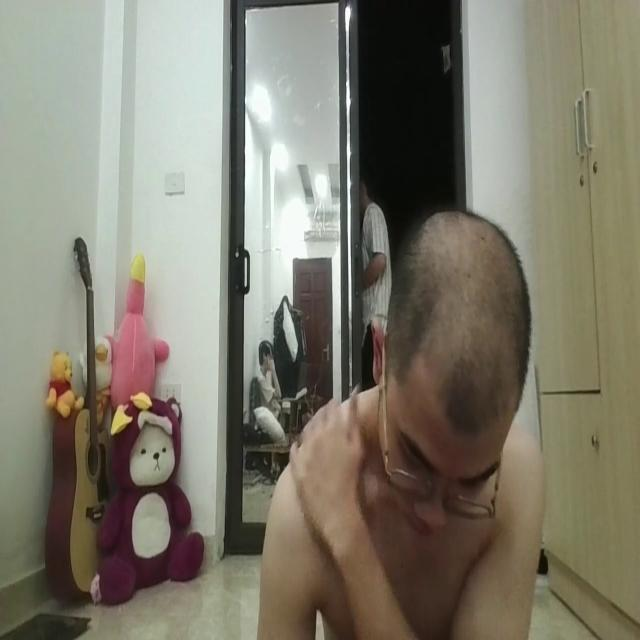extra_person: (353, 149, 400, 365), (238, 336, 302, 447)
student: (252, 209, 548, 640)
